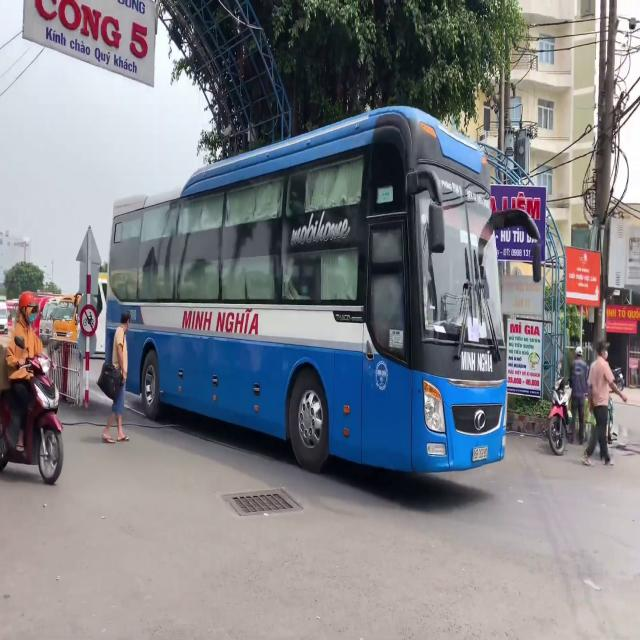bien_trang: (472, 442, 491, 466)
